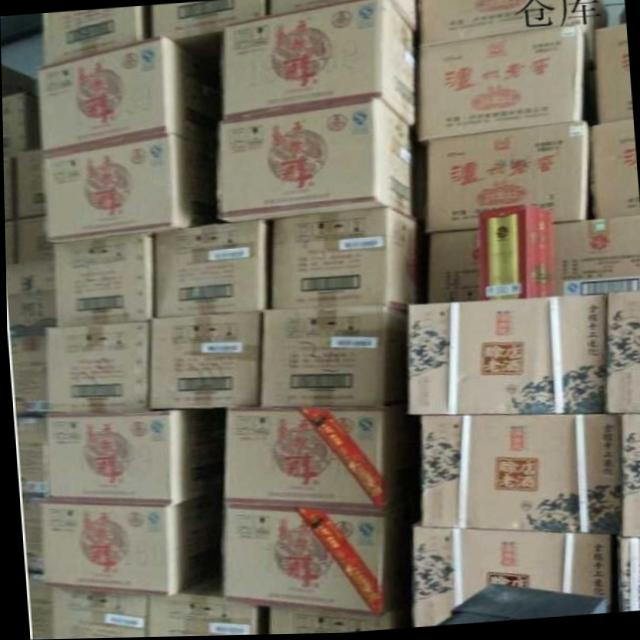box: (211, 97, 432, 223), (219, 0, 417, 127), (421, 419, 620, 539), (407, 301, 610, 416), (404, 518, 609, 629), (35, 36, 220, 149), (217, 507, 408, 614), (219, 404, 407, 511), (416, 31, 586, 144), (432, 126, 593, 238), (41, 136, 216, 239), (37, 499, 223, 595), (265, 207, 428, 315), (42, 415, 223, 506), (260, 307, 407, 410), (419, 0, 612, 66), (153, 216, 272, 319), (144, 313, 259, 411), (46, 320, 148, 414), (53, 230, 153, 325), (144, 574, 261, 638), (475, 204, 552, 301), (551, 216, 640, 297), (439, 588, 610, 626), (39, 9, 146, 68), (46, 586, 150, 639), (585, 123, 638, 221), (256, 600, 406, 634), (146, 0, 271, 40), (604, 294, 640, 415), (5, 259, 58, 339), (594, 26, 632, 126), (425, 230, 472, 304), (7, 334, 48, 414), (14, 414, 45, 496), (620, 418, 640, 543), (2, 89, 40, 153), (12, 148, 44, 219), (611, 543, 640, 614), (270, 0, 368, 19), (16, 215, 54, 262), (23, 493, 44, 574), (25, 569, 47, 640), (1, 61, 39, 97), (387, 0, 420, 32), (3, 152, 16, 222), (4, 217, 19, 261)
